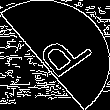P_SW: (21, 25, 89, 85)
